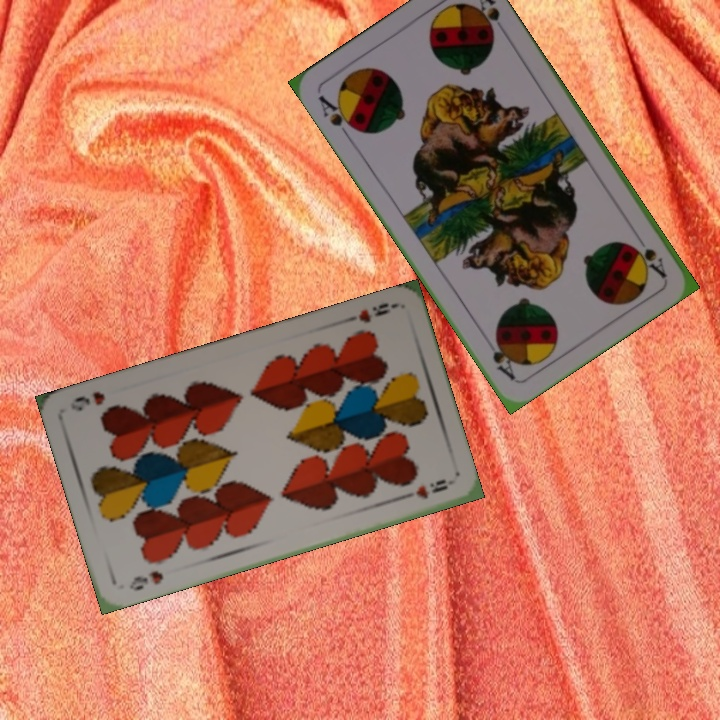H9: (341, 298, 399, 326), (125, 566, 166, 594)
SA: (313, 91, 362, 142), (630, 241, 669, 281)
